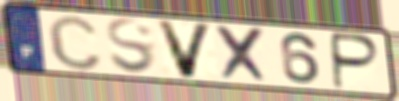6: (278, 30, 323, 86)
C: (45, 12, 105, 72)
P: (330, 30, 383, 92)
S: (104, 16, 159, 77)
V: (153, 18, 216, 80)
X: (213, 23, 272, 85)
